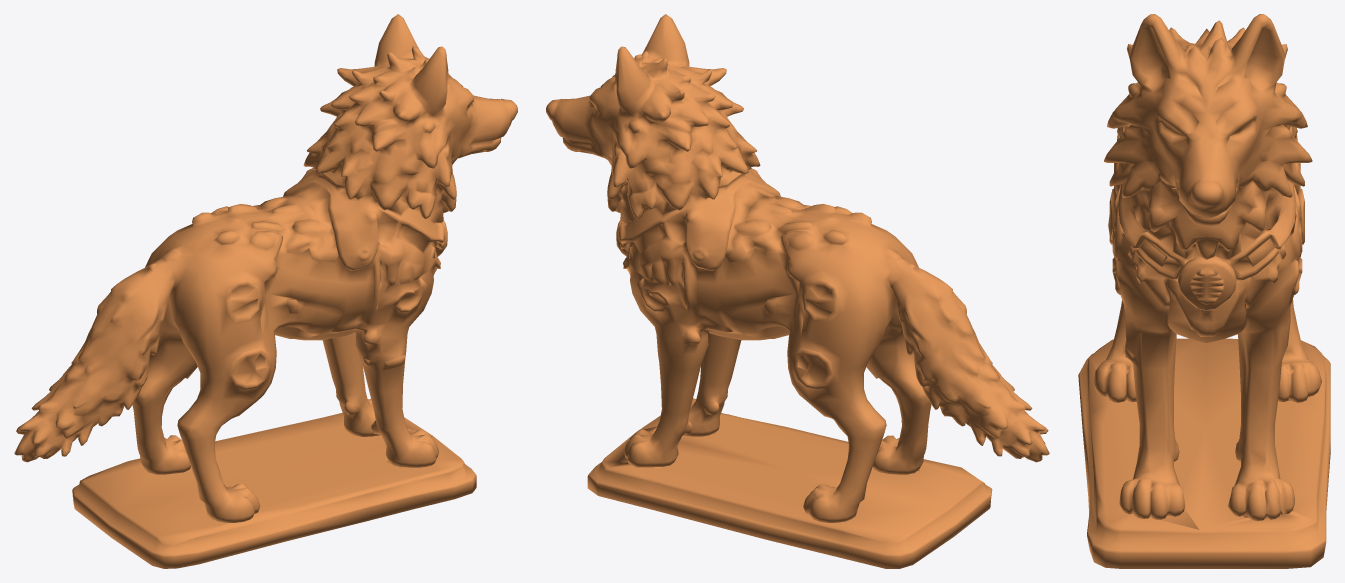
The model's file is wolf-flat.glb.
The picture shows the model from 3 angles, left to right: view 1: azimuth 30°, elevation 25°; view 2: azimuth 150°, elevation 25°; view 3: azimuth 270°, elevation 25°; orthographic projection. The views are drawn at different scales.
Visible parts, largest first — view 1: tripo_node_af3c4880-9687-4520-8e81-026a9ce672b9; view 2: tripo_node_af3c4880-9687-4520-8e81-026a9ce672b9; view 3: tripo_node_af3c4880-9687-4520-8e81-026a9ce672b9.
Part boxes in pixels (left/top/right/bottom): tripo_node_af3c4880-9687-4520-8e81-026a9ce672b9: left=14, top=14, right=517, bottom=568; tripo_node_af3c4880-9687-4520-8e81-026a9ce672b9: left=546, top=14, right=1049, bottom=568; tripo_node_af3c4880-9687-4520-8e81-026a9ce672b9: left=1078, top=14, right=1330, bottom=568.
Size of the model in its own units: 0.4248 by 0.35 by 0.1471.
